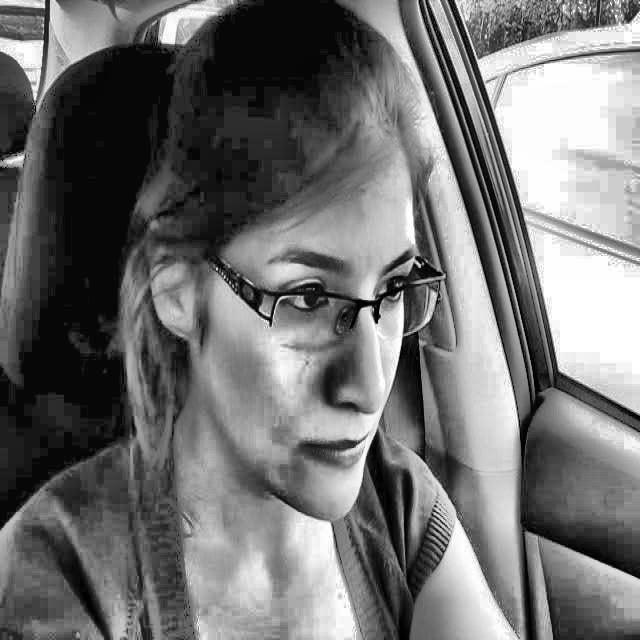closed_mouth: (282, 415, 397, 498)
open_eyes: (253, 265, 343, 331), (369, 272, 436, 321)
